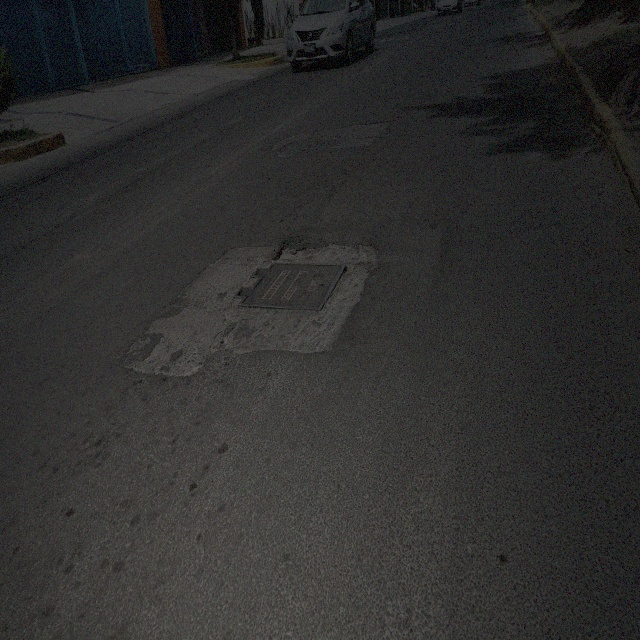pothole: (339, 117, 389, 148), (272, 243, 307, 266), (225, 299, 242, 326)
